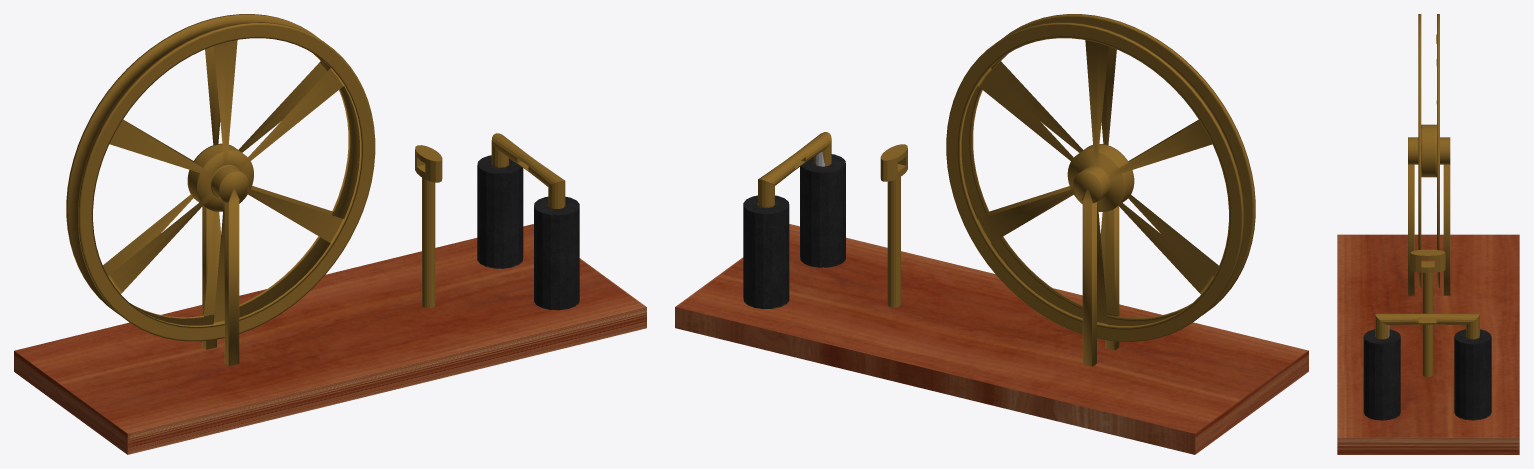
The model's file is Ricevitore.fbx.
3 views of the same model, side by side, from view 1: azimuth 30°, elevation 25°; view 2: azimuth 150°, elevation 25°; view 3: azimuth 270°, elevation 25° (orthographic). The views are drawn at different scales.
Parts seen in each view (by area): view 1: RICEVITORESUPER; view 2: RICEVITORESUPER; view 3: RICEVITORESUPER.
Boxes of the visible parts, <box> form: RICEVITORESUPER: <box>14,14,646,454</box>; RICEVITORESUPER: <box>675,14,1308,454</box>; RICEVITORESUPER: <box>1337,14,1519,454</box>.
Bounding box in the file's own units: 57.32 × 37.28 × 21.73.
